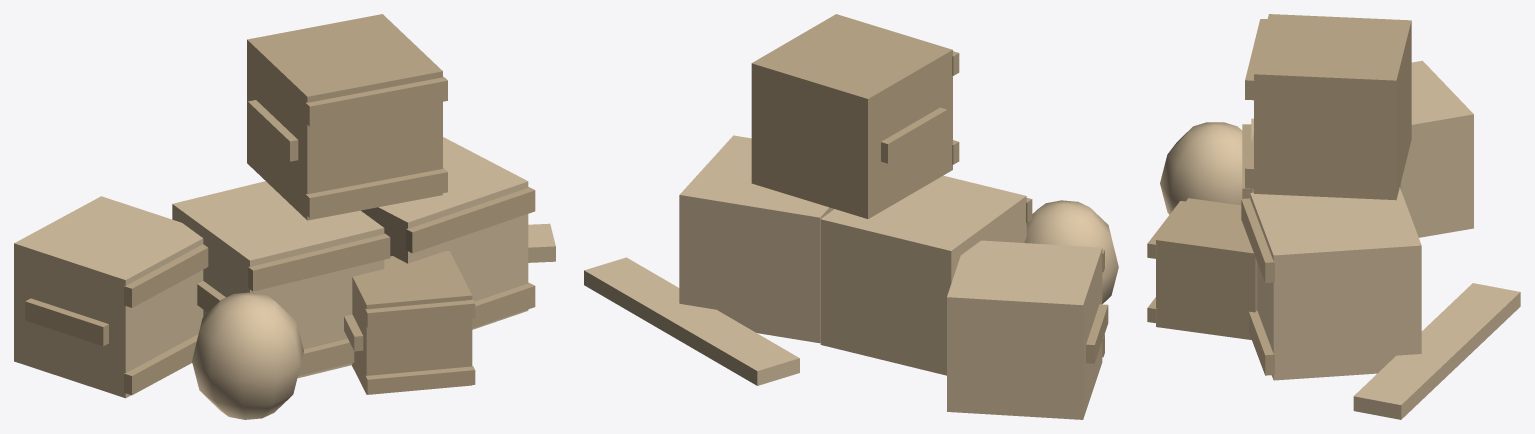
Rendered from crate_stack.fbx.
3 renders of one model, left to right at view 1: azimuth 30°, elevation 25°; view 2: azimuth 150°, elevation 25°; view 3: azimuth 270°, elevation 25°, orthographic. The views are drawn at different scales.
Visible parts, largest first — view 1: EN_crate_stack; view 2: EN_crate_stack; view 3: EN_crate_stack.
Part boxes in pixels (bbox=[...]): EN_crate_stack: bbox=[14, 14, 555, 419]; EN_crate_stack: bbox=[584, 14, 1118, 419]; EN_crate_stack: bbox=[1147, 14, 1520, 419].
Bounding box in the file's own units: 180 × 90.79 × 114.
